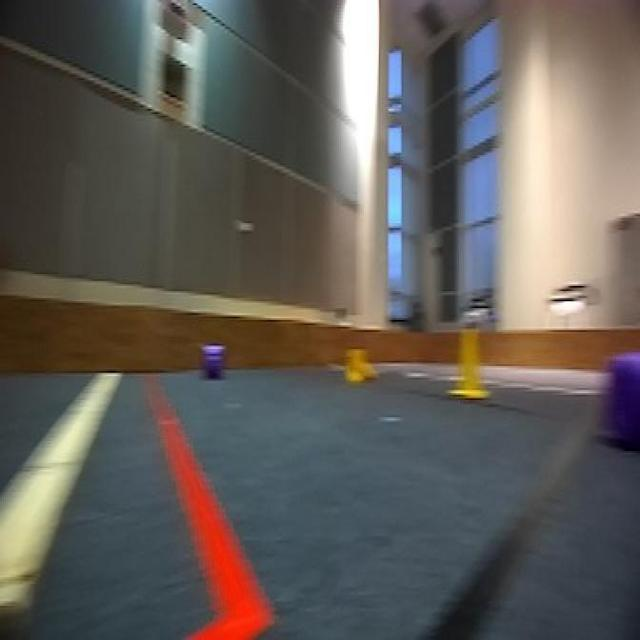frc_cone: (448, 322, 492, 400), (341, 342, 382, 388)
frc_cube: (596, 347, 640, 446), (203, 344, 224, 381)
